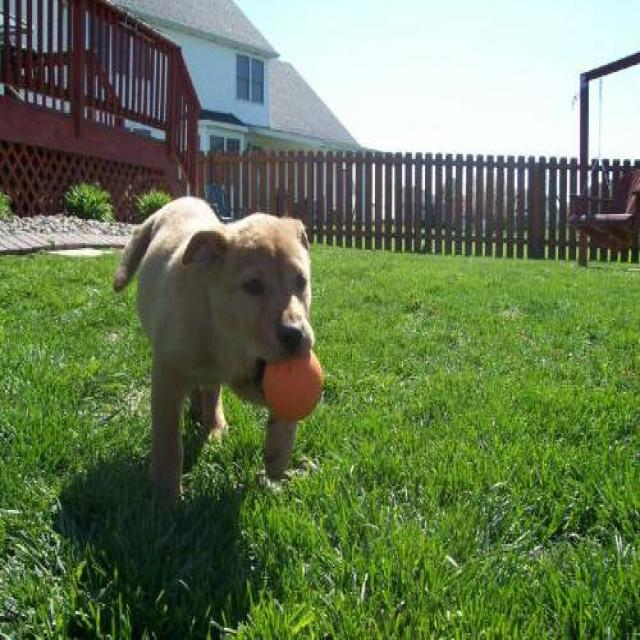dog: (111, 194, 316, 508)
